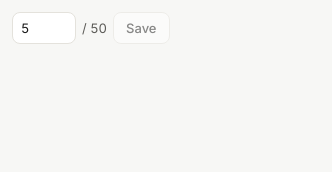
Scenario: DailyCapInput › clamps negatives to zero and warns when above the warmup schedule
Replace the text in the number field named "Daily cap" with "-3". click: (44, 28)
box: [12, 12, 76, 44]
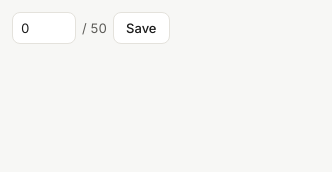
Check: the number field named "Daily cap" holds "0"
Replace the text in the number field named "Daily cap" with "30". click: (44, 28)
box: [12, 12, 76, 44]
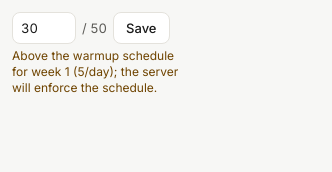
Check: the message shows "week 1 (5/day)", box [12, 48, 188, 96]
